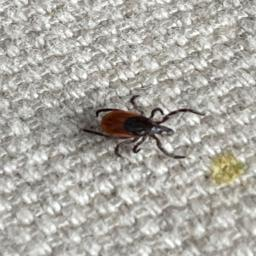Ixodes scapularis: (80, 106, 209, 159)
